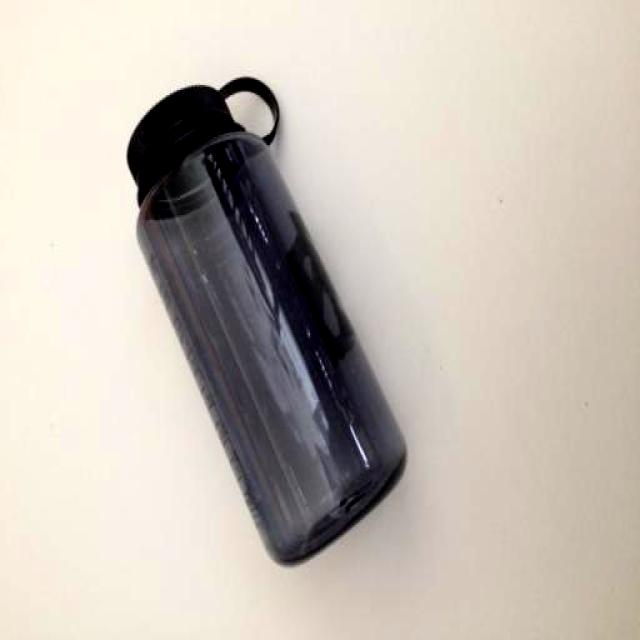Plastic: (103, 71, 424, 580)
